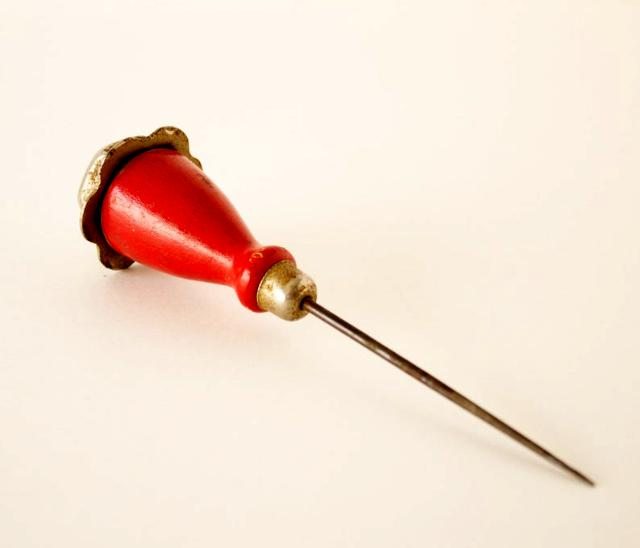ice pick: (78, 125, 596, 489)
